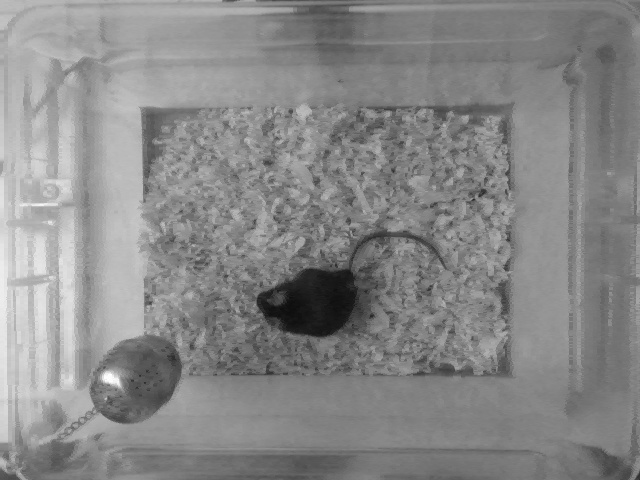mice: (251, 226, 455, 338)
